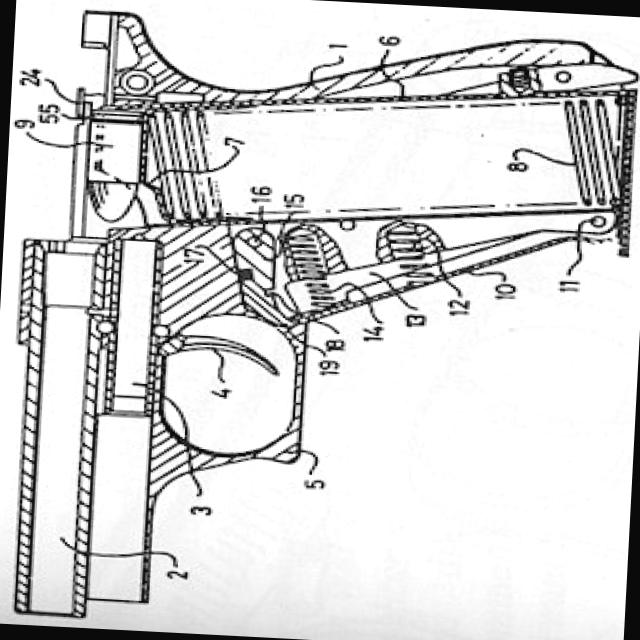handgun: (0, 8, 634, 639)
